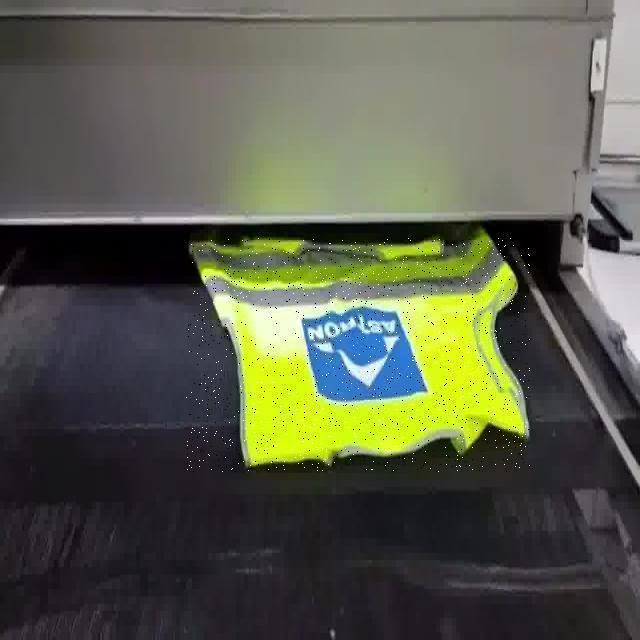vest: (185, 238, 530, 472)
